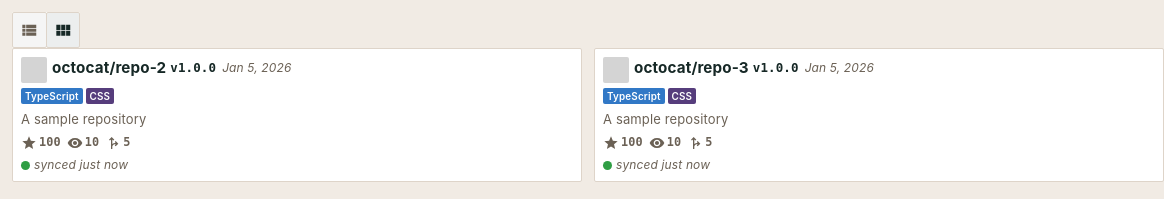
Scenario: RepoList › switches between list and card views
Click the button named "list view". click: (29, 30)
box: [12, 12, 47, 48]
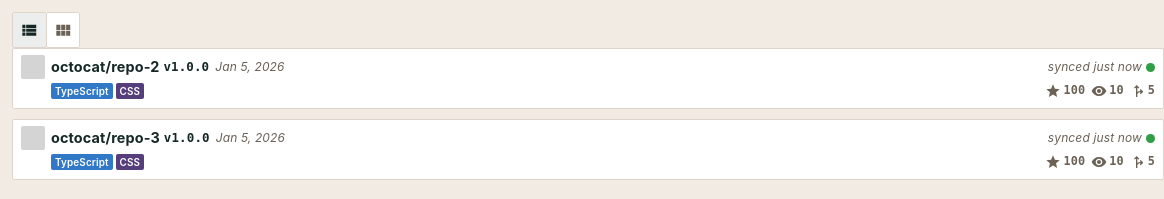
Now the element with test id "repo-list-view" is shown
Now the element with test id "repo-card-view" is gone
